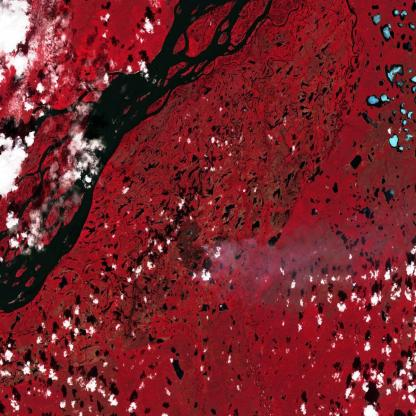fire: (180, 240, 212, 280)
